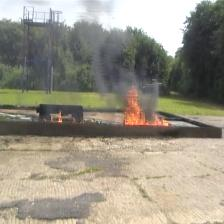fire: (125, 87, 169, 126)
